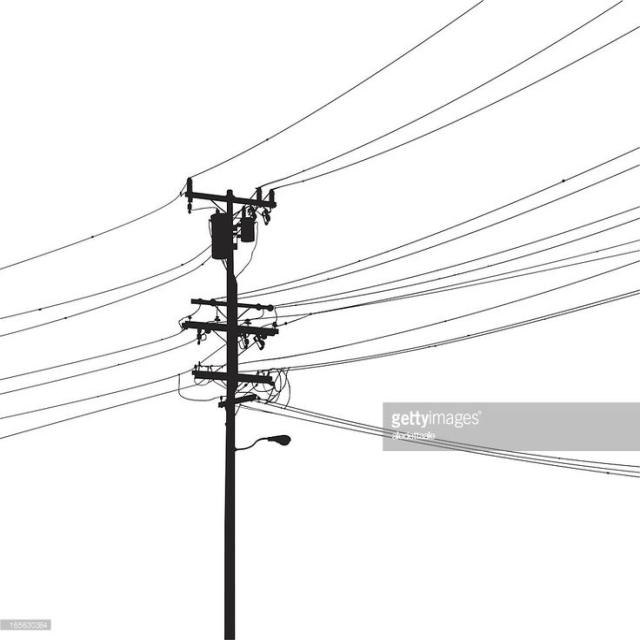light_pole: (173, 170, 324, 478)
